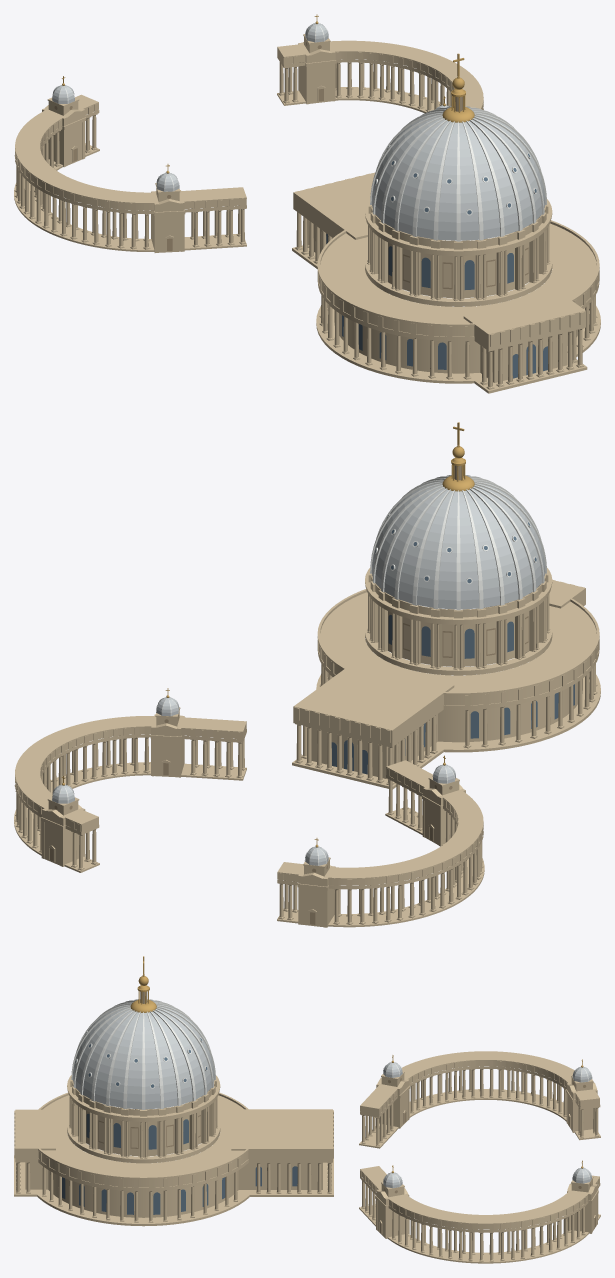
File: yamoussoukro-basilica.detail.glb
3 renders of one model, top to bottom at view 1: azimuth 30°, elevation 25°; view 2: azimuth 150°, elevation 25°; view 3: azimuth 270°, elevation 25°, orthographic. The views are drawn at different scales.
Parts seen in each view (by area): view 1: Basilica of Our Lady of Peace; view 2: Basilica of Our Lady of Peace; view 3: Basilica of Our Lady of Peace.
Part boxes in pixels (x1,y1,x2,y2): Basilica of Our Lady of Peace: [14, 14, 600, 393]; Basilica of Our Lady of Peace: [14, 422, 600, 927]; Basilica of Our Lady of Peace: [14, 956, 600, 1263].
Size of the model in its own units: 266 by 158 by 381.
